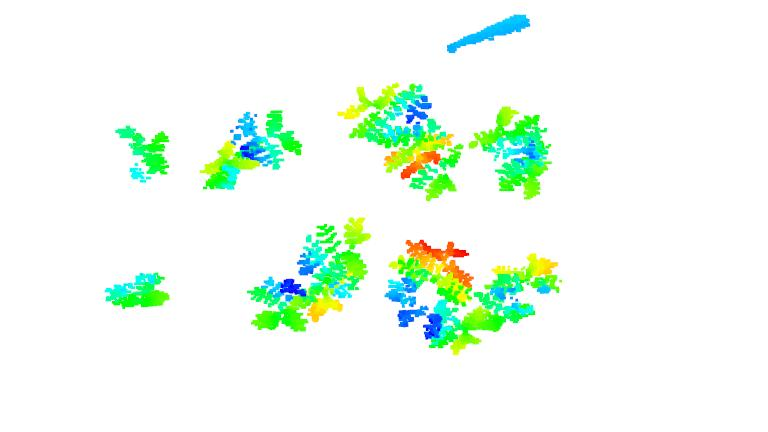chickpea: (239, 215, 368, 332), (342, 81, 460, 199), (378, 236, 488, 356), (194, 108, 304, 191), (470, 106, 556, 199), (477, 251, 561, 332), (112, 124, 171, 185), (103, 270, 173, 310)
